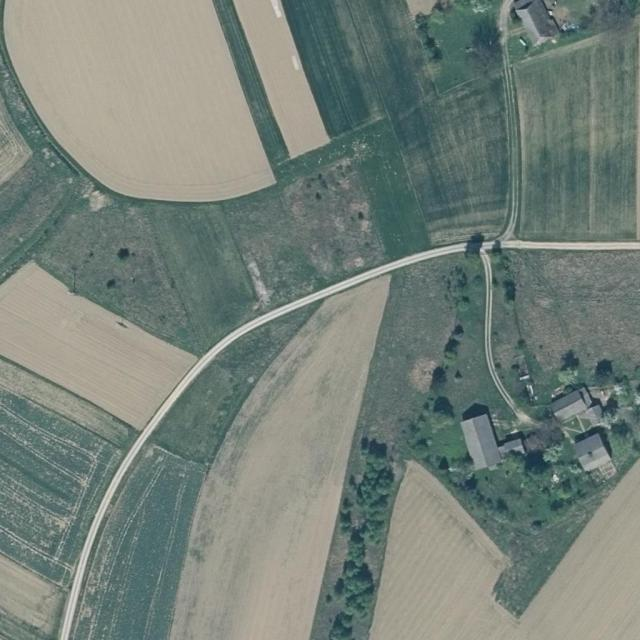agricultural_land: (0, 69, 442, 382), (0, 254, 197, 440), (149, 274, 324, 478), (350, 241, 474, 473), (513, 24, 640, 240), (209, 0, 291, 167), (0, 554, 65, 640), (1, 94, 33, 186), (407, 0, 438, 17)
building: (546, 379, 610, 441), (456, 400, 503, 471), (569, 424, 621, 486), (497, 431, 526, 457)
greenland: (401, 392, 620, 617), (395, 405, 469, 475), (437, 253, 479, 367), (551, 353, 631, 407), (604, 376, 640, 464), (429, 365, 454, 433), (495, 251, 525, 304), (448, 366, 466, 384), (436, 456, 446, 468)
unmetalled_road: (457, 247, 534, 432), (502, 240, 640, 249), (482, 239, 492, 251)
